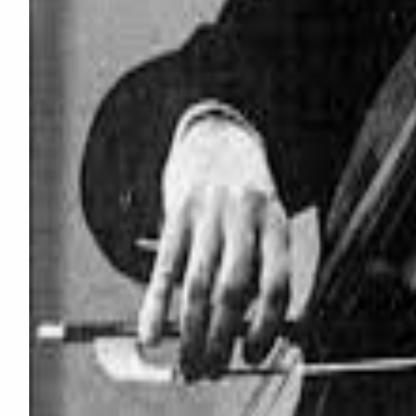good: (136, 147, 296, 379)
